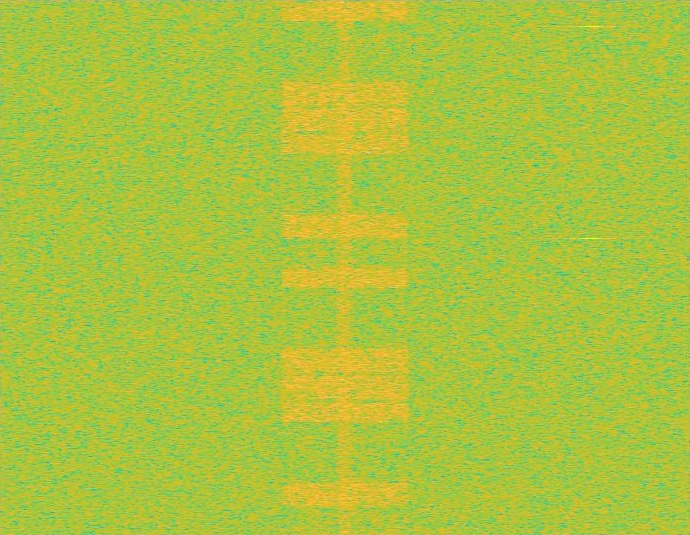DSSS: (336, 0, 354, 534)
LTE: (276, 0, 414, 534)
Radar: (585, 0, 598, 534)
